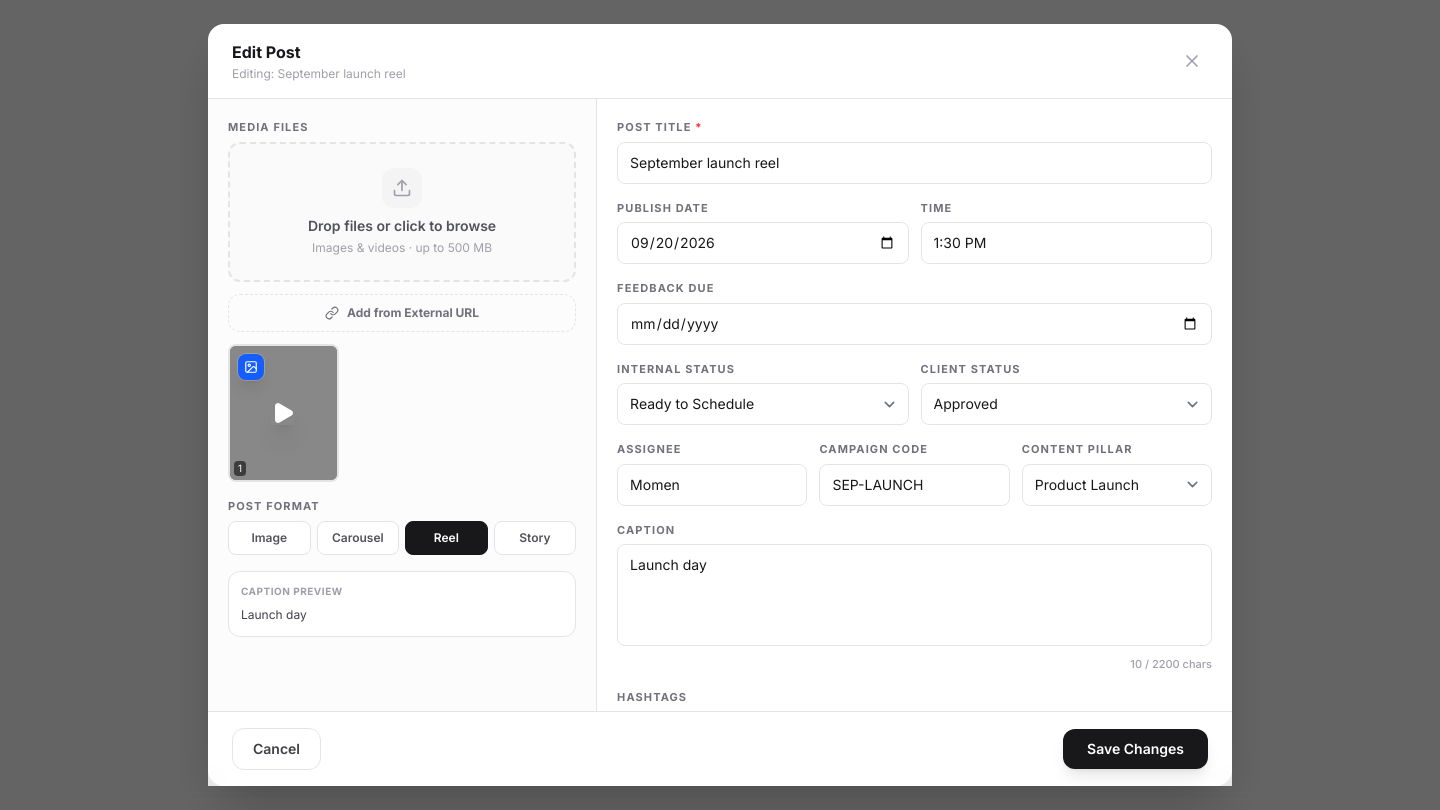
PostFormModal scheduling › keeps a scheduled post open and explains an invalid publish time
This screenshot has width=1440, height=810.
Select "Scheduled" in the dropdown labelled "Internal Status" at (763, 404), box [617,383,908,425]
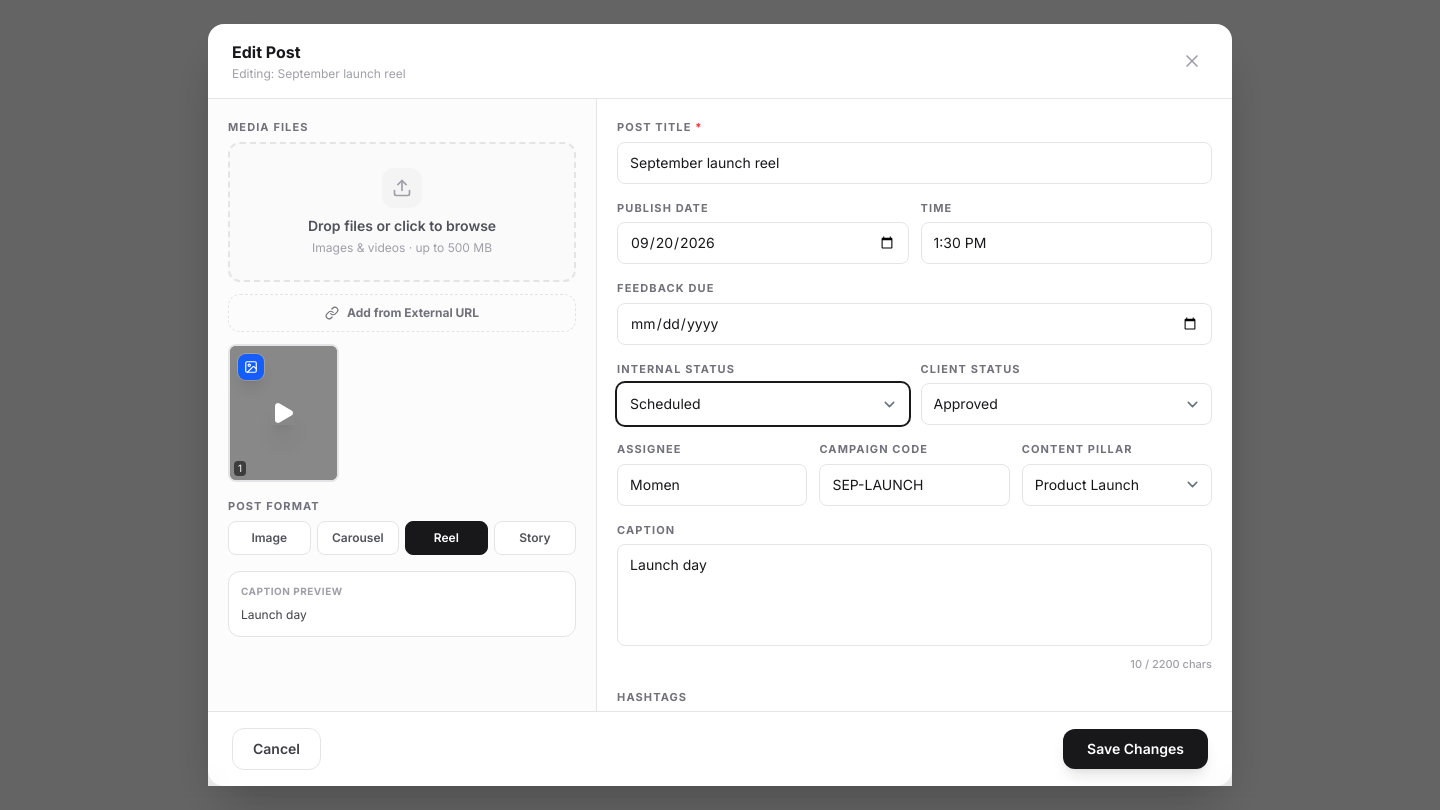
Replace the text in the field labelled "Time" with "after lunch" at (1066, 243), box [920,222,1212,264]
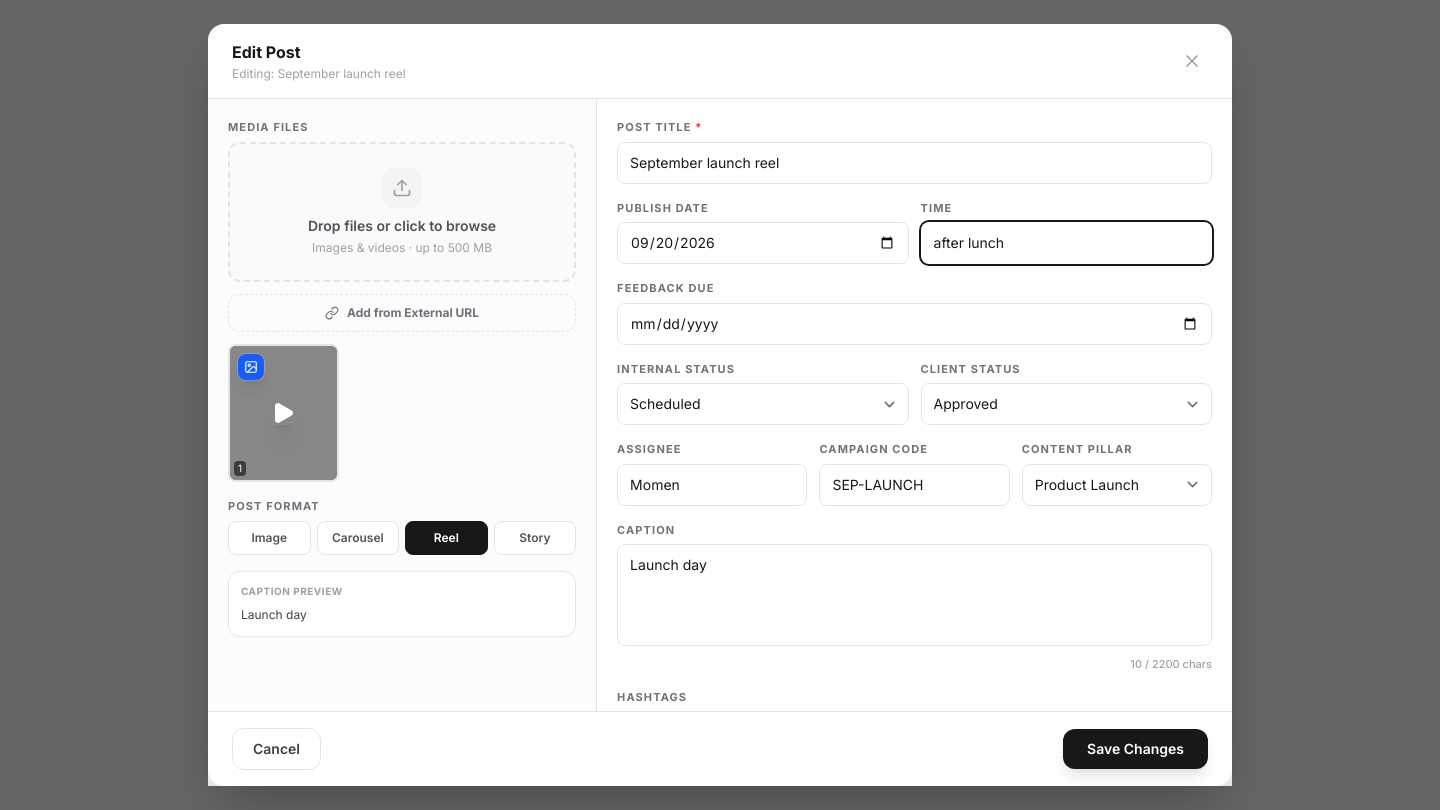
Click the button "Save Changes" at (1136, 749), box [1063,729,1208,769]
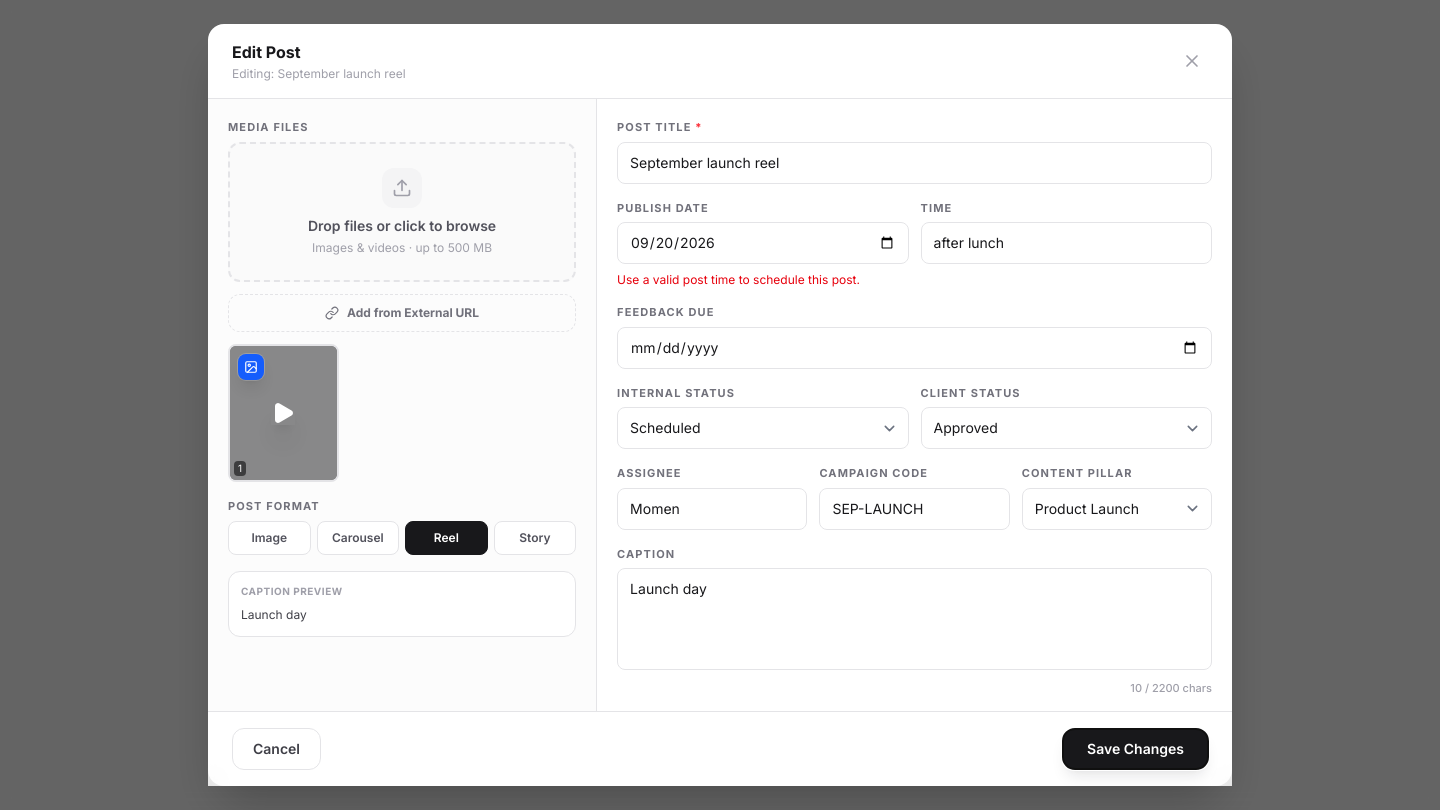
Now the text "Use a valid post time to schedule this post." is shown, box [617,272,860,287]
